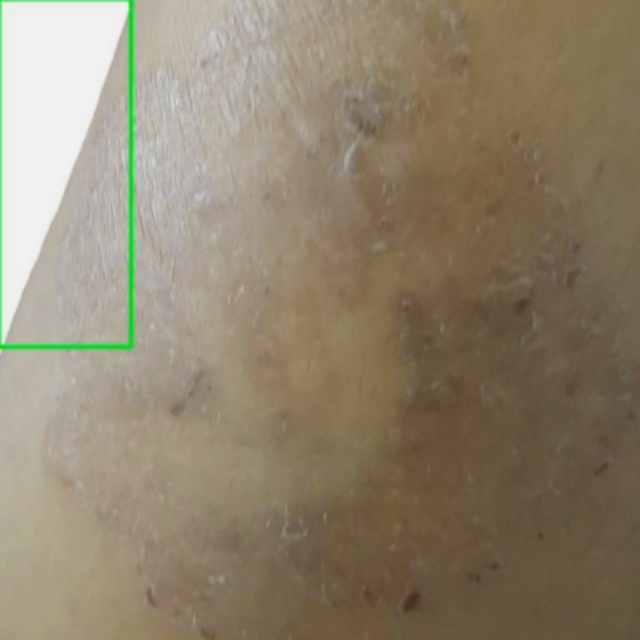Tinea Corporis: (0, 0, 131, 346)
